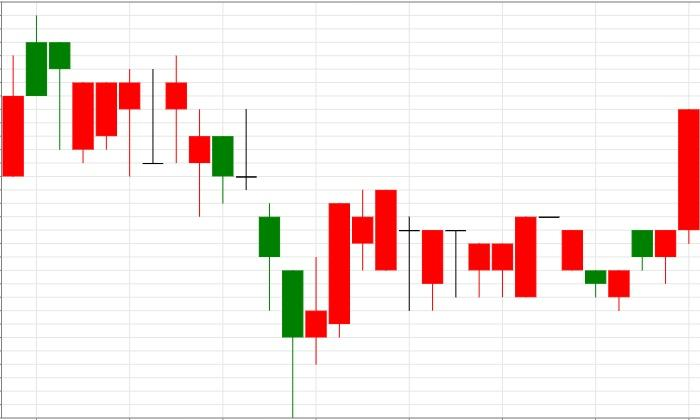bullish_engulfing_rise: (514, 216, 631, 311)
hanging_man_fall: (2, 14, 71, 178)
